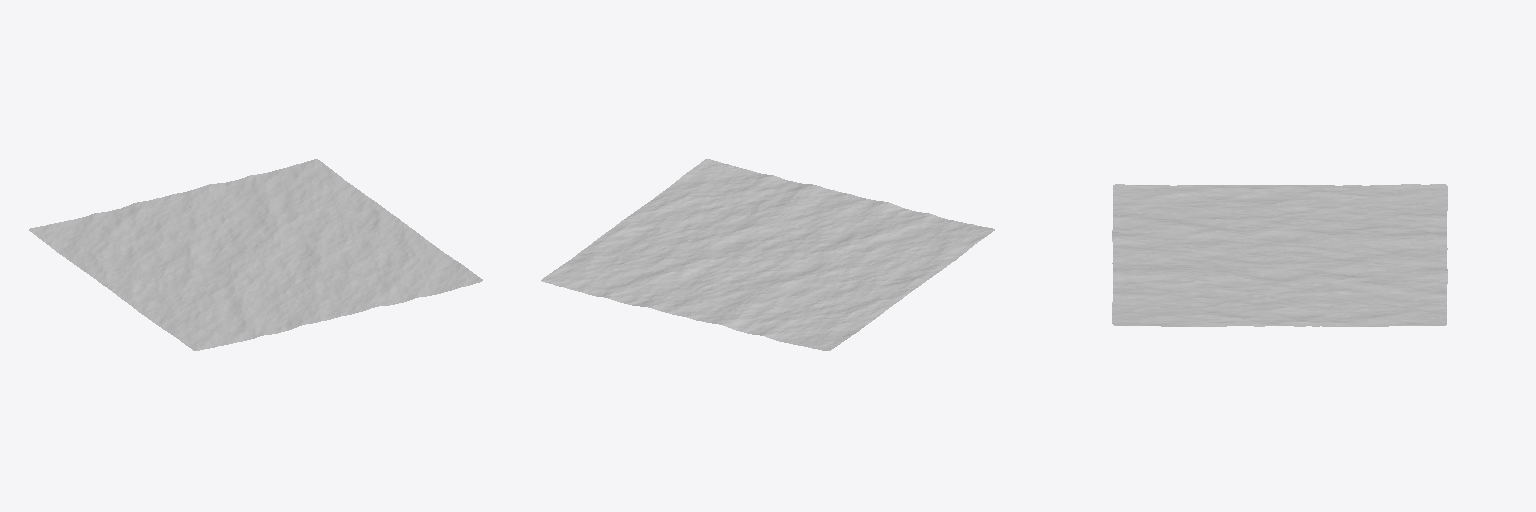
The model's file is sea_000022.obj.
3 views of the same model, side by side, from view 1: azimuth 30°, elevation 25°; view 2: azimuth 150°, elevation 25°; view 3: azimuth 270°, elevation 25° (orthographic).
Visible parts, largest first — view 1: Plane; view 2: Plane; view 3: Plane.
Boxes of the visible parts, box(x1,y1,x2,y2) form: Plane: box(29, 159, 482, 350); Plane: box(541, 159, 994, 350); Plane: box(1112, 184, 1447, 326).
Bounding box in the file's own units: 201 × 1.7 × 201.